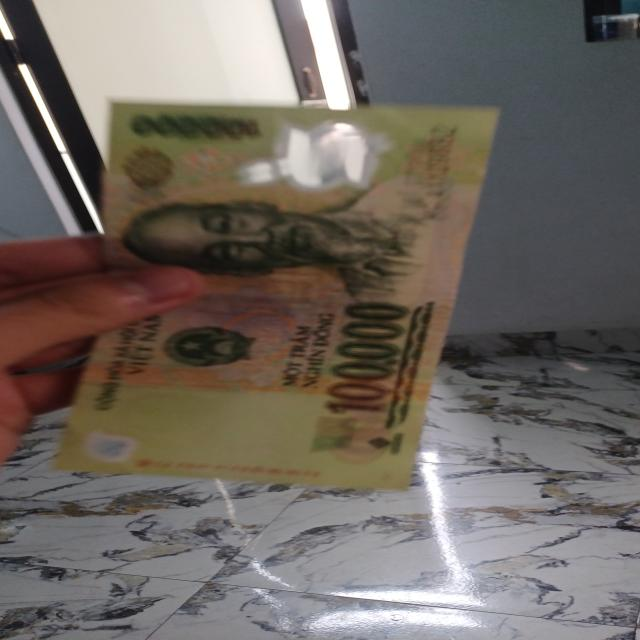100 000 VND: (42, 95, 507, 493)
